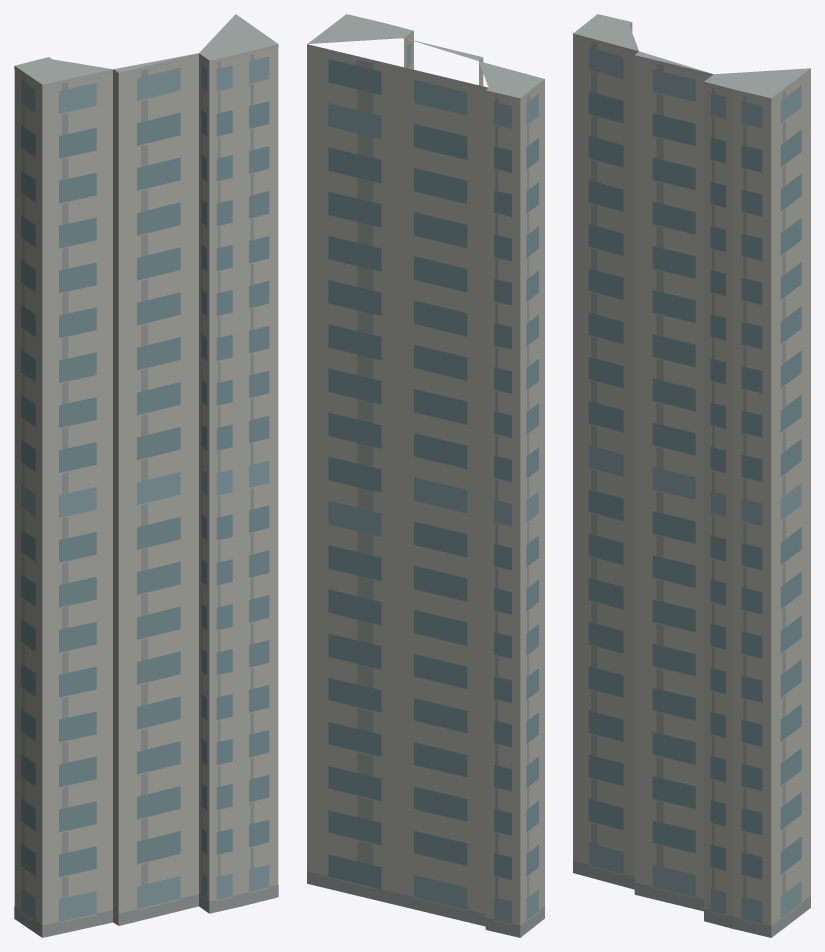
The model's file is survey-upis-33021192.glb.
3 renders of one model, left to right at view 1: azimuth 30°, elevation 25°; view 2: azimuth 150°, elevation 25°; view 3: azimuth 330°, elevation 25°, orthographic.
Parts seen in each view (by area): view 1: survey-upis-33021192.tmp; view 2: survey-upis-33021192.tmp; view 3: survey-upis-33021192.tmp.
Boxes of the visible parts, <box> form: survey-upis-33021192.tmp: <box>14,14,278,937</box>; survey-upis-33021192.tmp: <box>307,14,544,937</box>; survey-upis-33021192.tmp: <box>573,14,810,937</box>.
Size of the model in its own units: 15.66 by 57.95 by 5.48.
